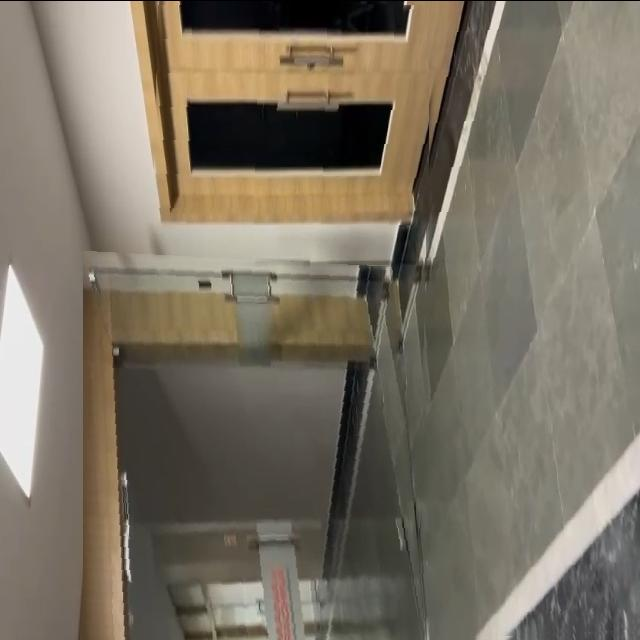door: (83, 248, 427, 640), (152, 0, 429, 224)
floor: (417, 0, 640, 640)
